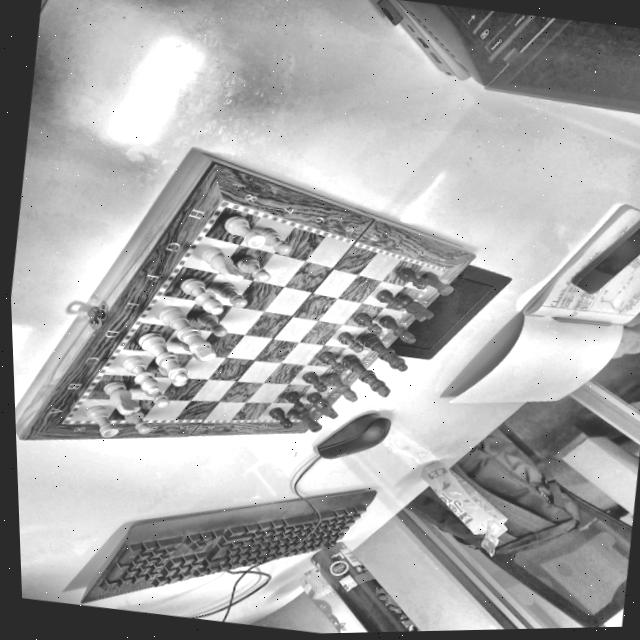black-bishop: (375, 313, 421, 344), (323, 371, 359, 403)
black-king: (339, 353, 396, 399)
black-knight: (394, 294, 435, 324), (303, 391, 343, 418)
black-pawn: (350, 308, 388, 336), (390, 265, 429, 290), (316, 350, 350, 374), (334, 331, 368, 353), (374, 288, 407, 310), (263, 404, 293, 428), (283, 388, 309, 414), (300, 370, 328, 392)
black-queen: (360, 332, 416, 373)
black-rook: (418, 269, 456, 298), (292, 408, 327, 433)
white-bishop: (114, 350, 166, 397), (177, 275, 227, 317)
white-king: (150, 306, 222, 363)
white-knight: (95, 376, 147, 419), (195, 245, 246, 282)
white-pawn: (233, 253, 273, 286), (178, 341, 218, 373), (193, 309, 231, 339), (215, 280, 253, 310), (155, 365, 193, 394), (256, 227, 293, 254), (121, 409, 155, 437), (138, 387, 173, 410)
white-queen: (134, 329, 193, 383)
white-rook: (218, 210, 268, 251), (79, 405, 124, 440)
